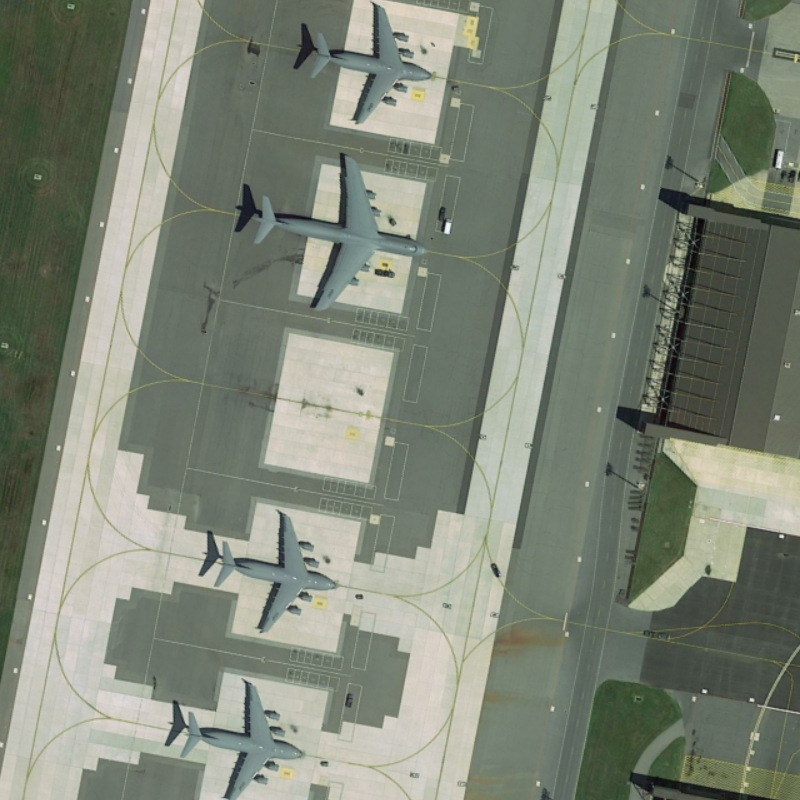A3: (207, 508, 342, 639), (303, 3, 441, 131), (175, 676, 308, 800)
A4: (249, 148, 431, 322)
